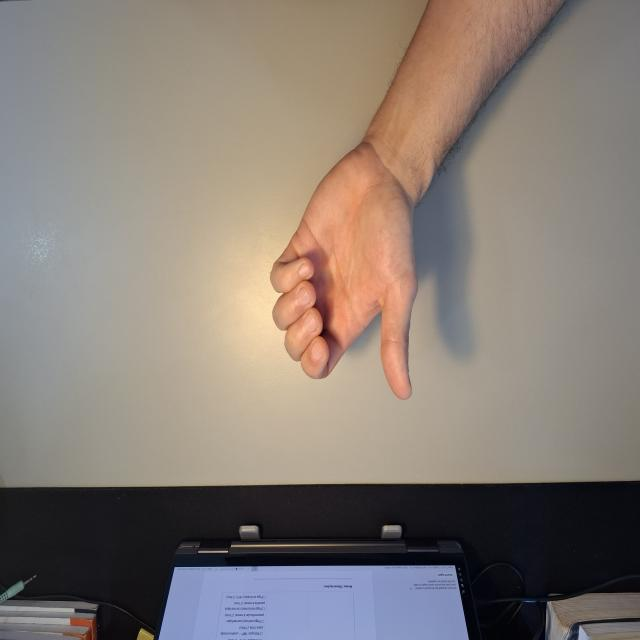glove_off: (268, 140, 431, 403)
